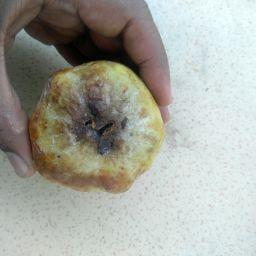guava: (25, 57, 170, 198)
